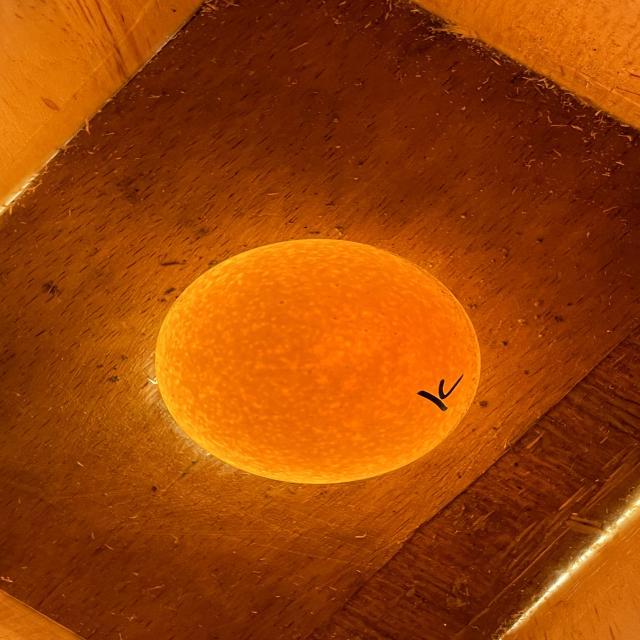infertile: (155, 239, 480, 484)
